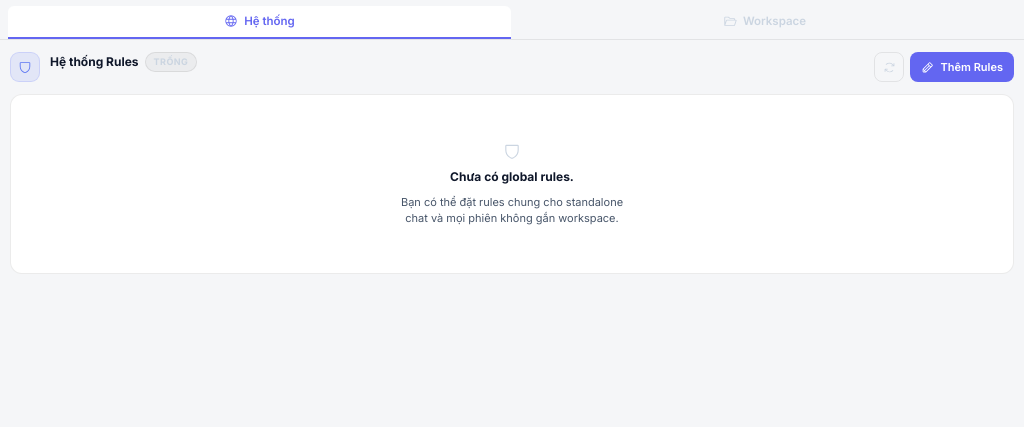
MemoryManager › saves standalone rules without a workspace id
Click the button "Thêm Rules".
click(962, 67)  # box [910,52,1014,82]
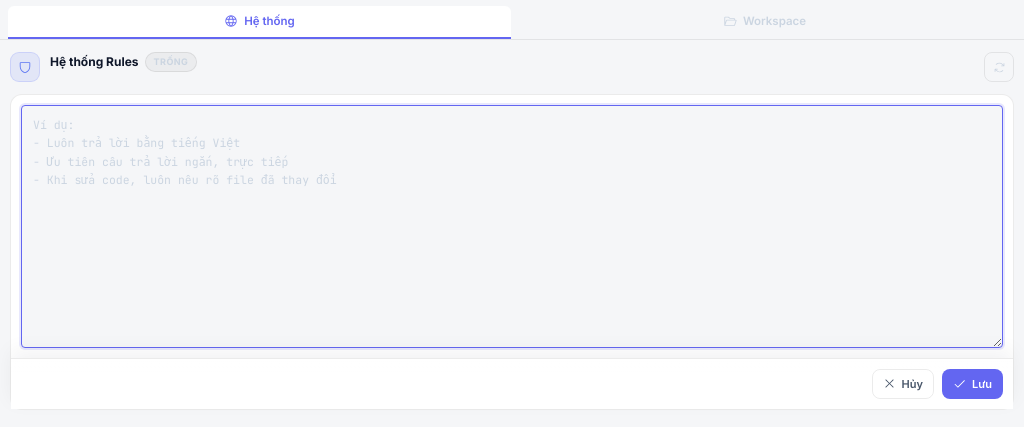
Replace the text in the text box with "- Prefer concise responses" at (512, 226), box [21,105,1003,348]
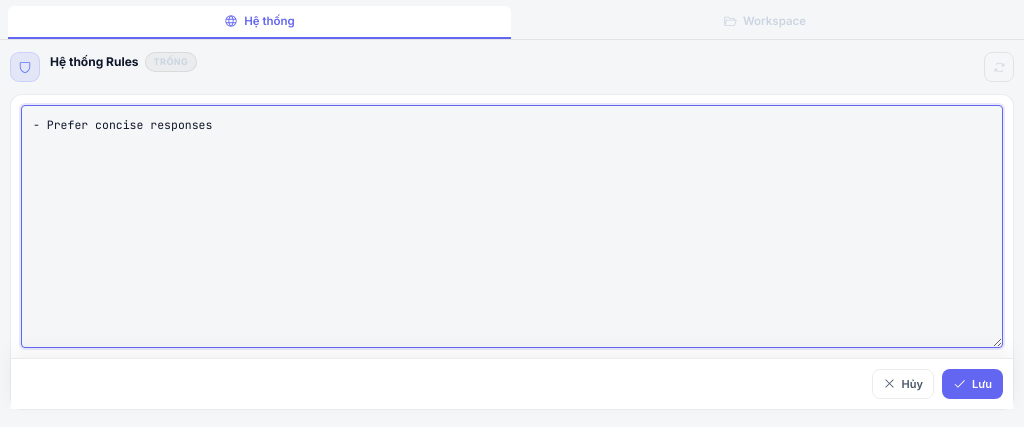
Click the button "Lưu".
click(972, 384)  # box [942,369,1003,399]
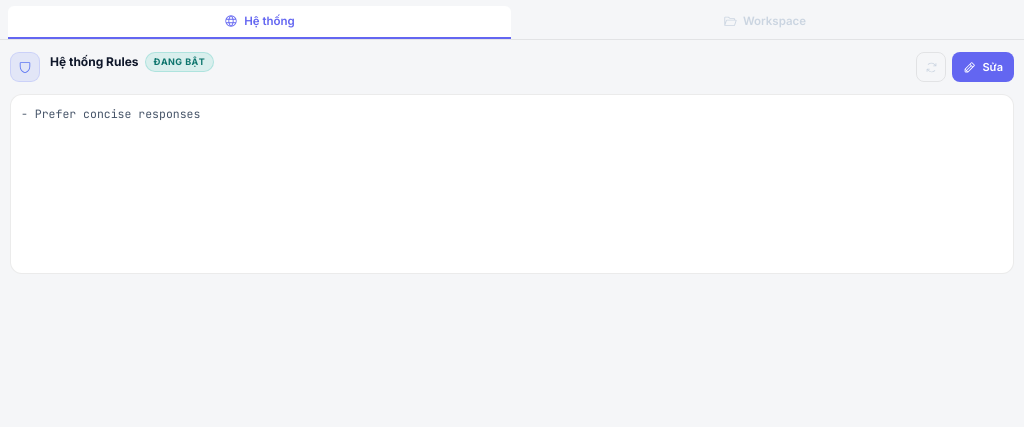
Check: the text "- Prefer concise responses" is shown, box [21,106,200,121]
